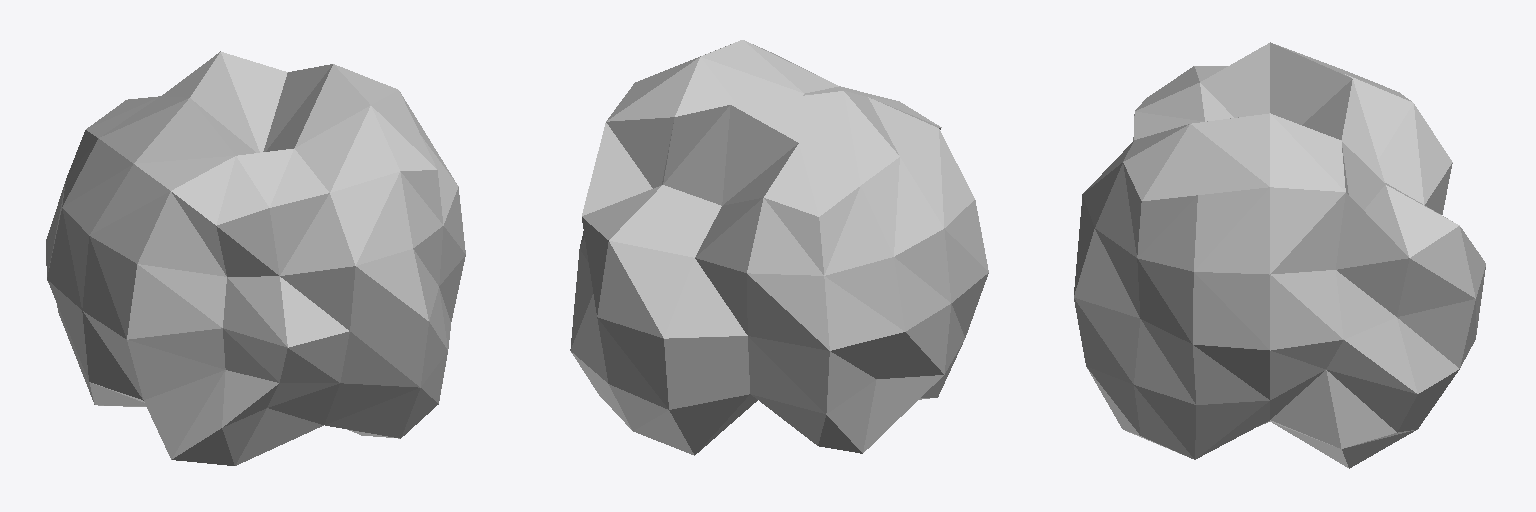
The model's file is Rock4.obj.
The picture shows the model from 3 angles: view 1: azimuth 30°, elevation 25°; view 2: azimuth 150°, elevation 25°; view 3: azimuth 270°, elevation 25°; orthographic projection.
Parts seen in each view (by area): view 1: Cube; view 2: Cube; view 3: Cube.
Part boxes in pixels (left/top/right/bottom): Cube: left=46, top=51, right=465, bottom=465; Cube: left=570, top=40, right=988, bottom=455; Cube: left=1074, top=42, right=1485, bottom=468.
Size of the model in its own units: 2.51 by 2.4 by 2.51.